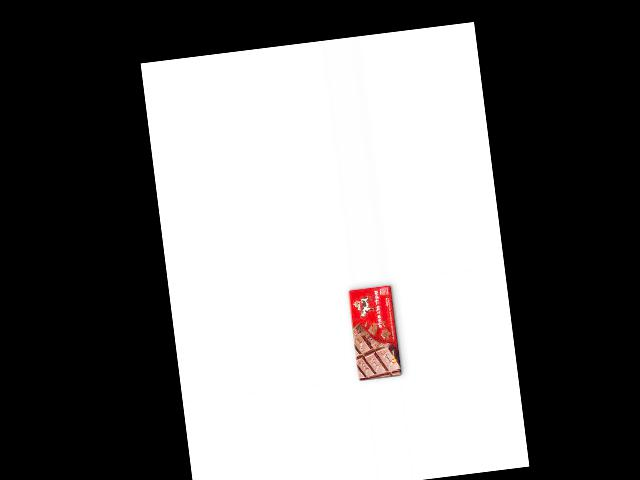chocolate: (345, 282, 405, 383)
